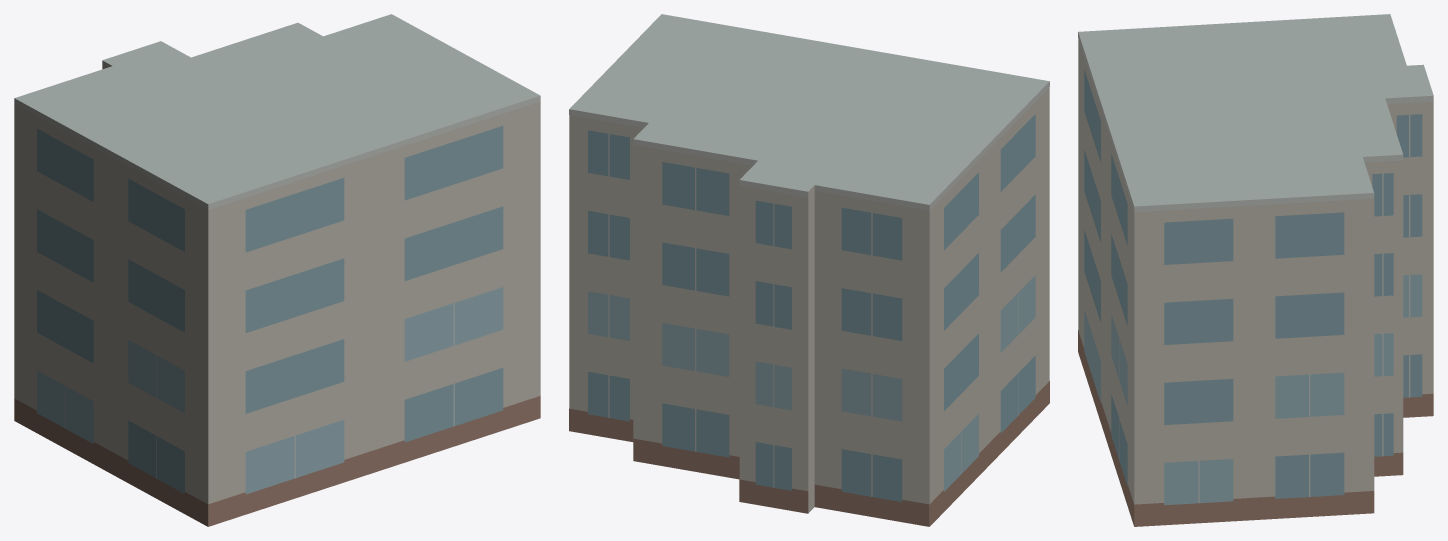
The model's file is survey-upis-32595569.glb.
3 renders of one model, left to right at view 1: azimuth 30°, elevation 25°; view 2: azimuth 150°, elevation 25°; view 3: azimuth 270°, elevation 25°, orthographic.
Visible parts, largest first — view 1: survey-upis-32595569.tmp; view 2: survey-upis-32595569.tmp; view 3: survey-upis-32595569.tmp.
Part boxes in pixels (x1=…): survey-upis-32595569.tmp: x1=14, y1=14, x2=540, y2=526; survey-upis-32595569.tmp: x1=569, y1=14, x2=1049, y2=526; survey-upis-32595569.tmp: x1=1078, y1=14, x2=1433, y2=526.
Size of the model in its own units: 17.57 by 13.62 by 13.71.
